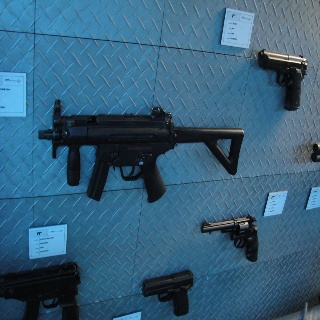pistol: (257, 45, 309, 113), (200, 214, 261, 264), (142, 272, 195, 317)
rifle: (38, 97, 246, 203)
